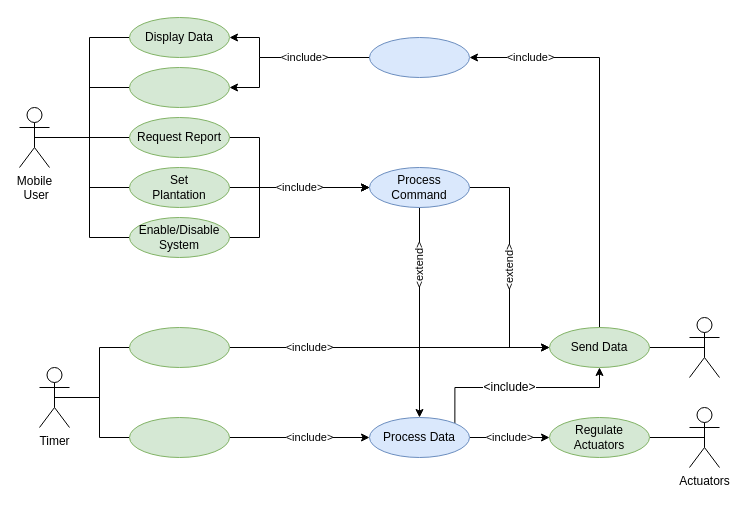
Image size: 747x506. Some labels were removed from this diagram. The shapes that lost their labels are listed below. From the top down, each one's box as (x1, y1, x2, y2) in pixels, then its label:
(368, 36, 470, 78): Prepare Data
(128, 66, 230, 108): Display Report
(128, 326, 230, 368): Take Picture
(688, 316, 720, 378): Database
(128, 416, 230, 458): Sample Sensors
